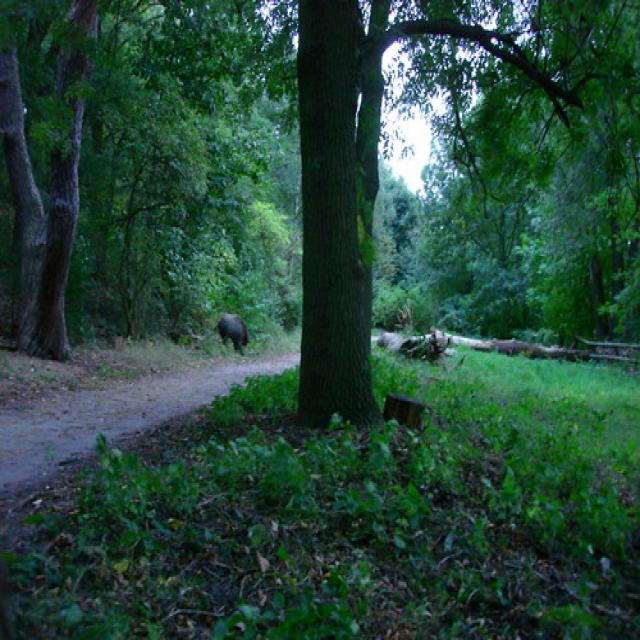boar: (204, 300, 260, 372)
